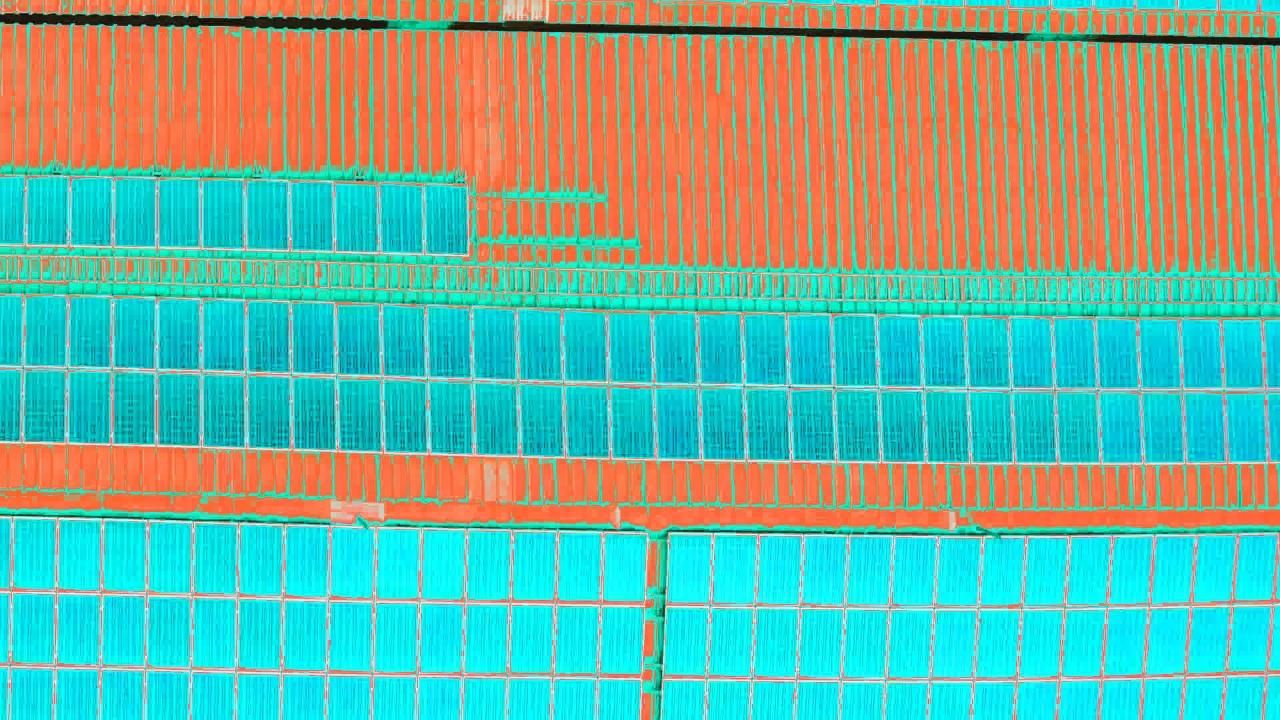dirty: (5, 295, 1280, 461), (2, 514, 644, 720), (662, 533, 1264, 720), (12, 175, 475, 262)
